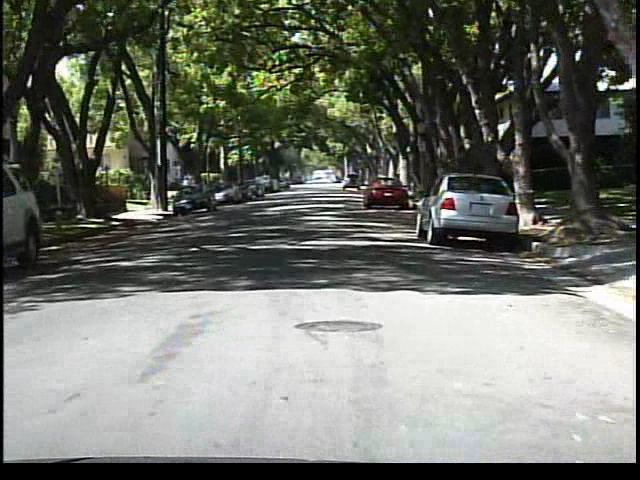person: (178, 175, 196, 208)
